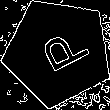P_SW: (27, 24, 89, 80)
